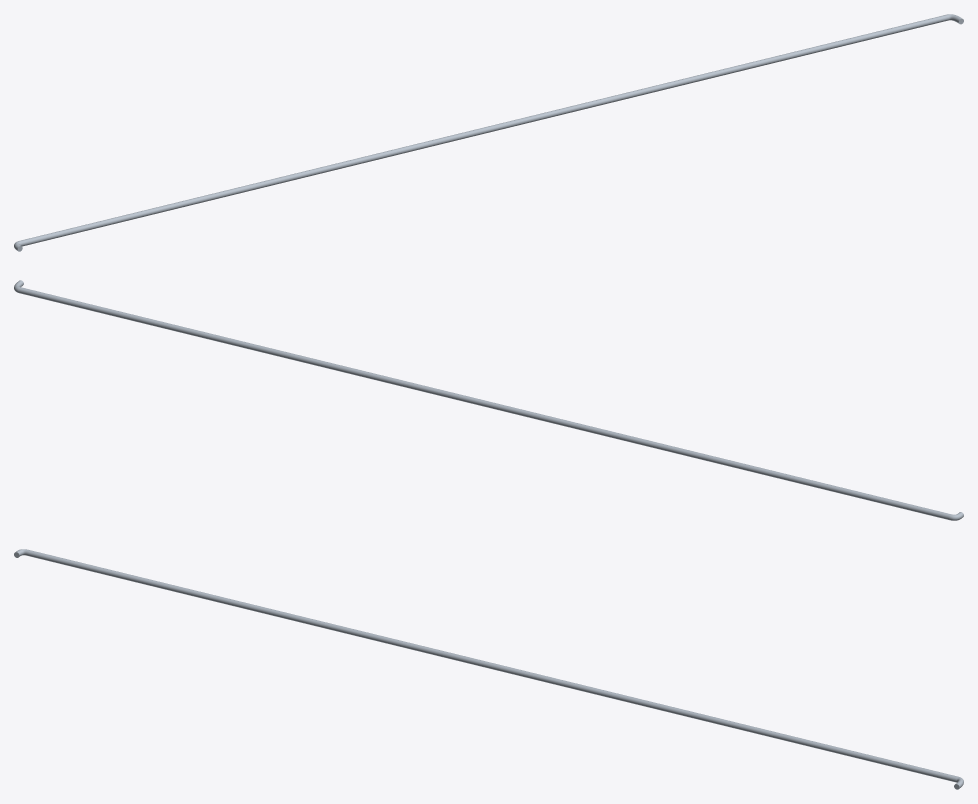
File: SM_Cable_2_Splines_18.fbx
3 views of the same model, one above another, from view 1: azimuth 30°, elevation 25°; view 2: azimuth 150°, elevation 25°; view 3: azimuth 330°, elevation 25° (orthographic).
Parts seen in each view (by area): view 1: SM_Cable_2_Splines_18; view 2: SM_Cable_2_Splines_18; view 3: SM_Cable_2_Splines_18.
Part boxes in pixels (x1,y1,x2,y2): SM_Cable_2_Splines_18: (14,14,963,251); SM_Cable_2_Splines_18: (14,280,963,520); SM_Cable_2_Splines_18: (14,549,963,789).
Size of the model in its own units: 1584 by 26.63 by 8.83.
